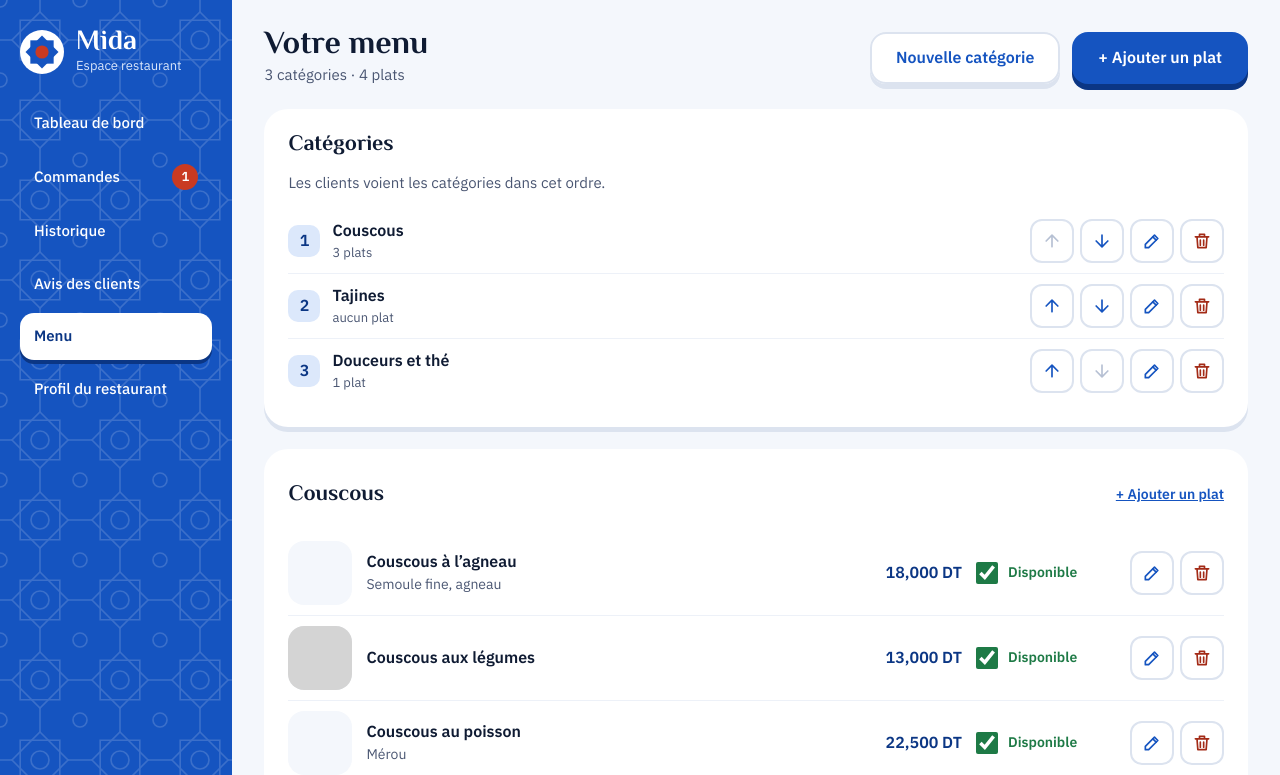
menu : catégories (US09) › nom vide ou déjà pris : message, rien n’est envoyé
The image size is (1280, 775).
Click the button "Nouvelle catégorie" at [965, 58], box [870,32,1060,84]
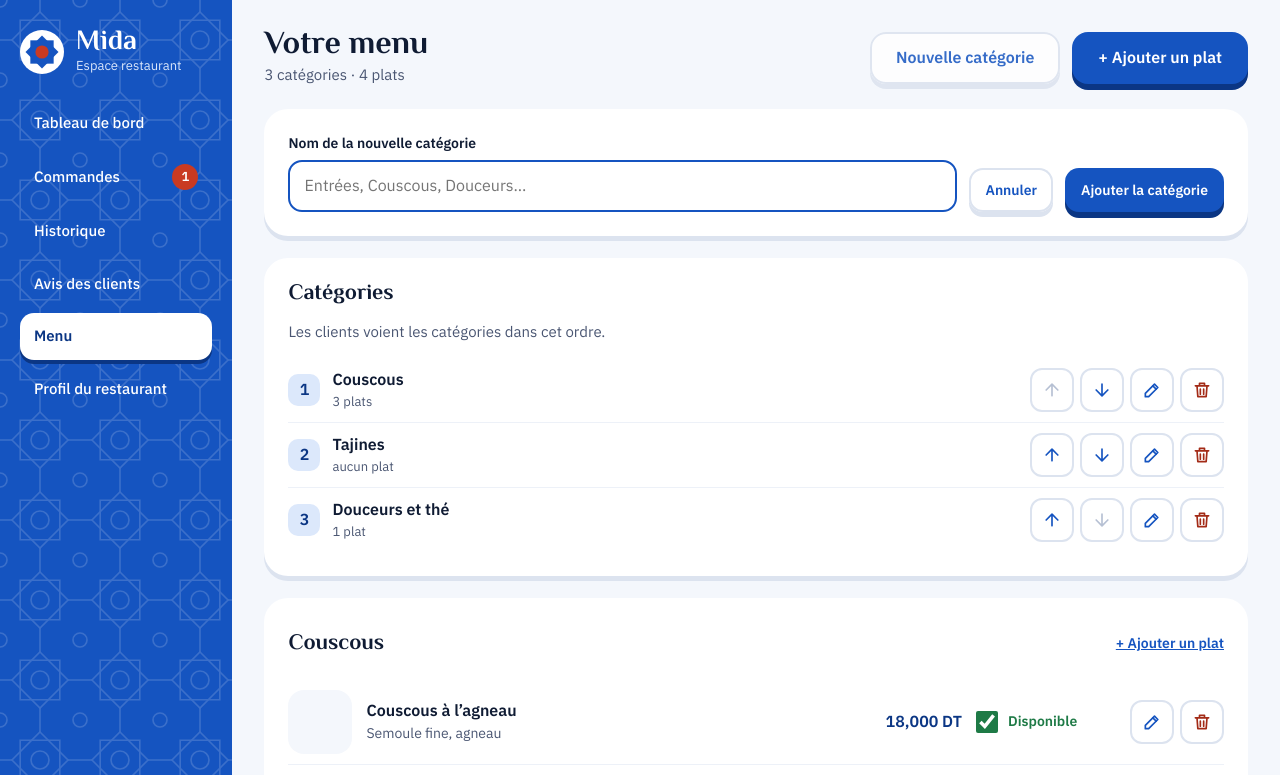
Click the button "Ajouter la catégorie" at [1144, 190], box [1065,168,1224,212]
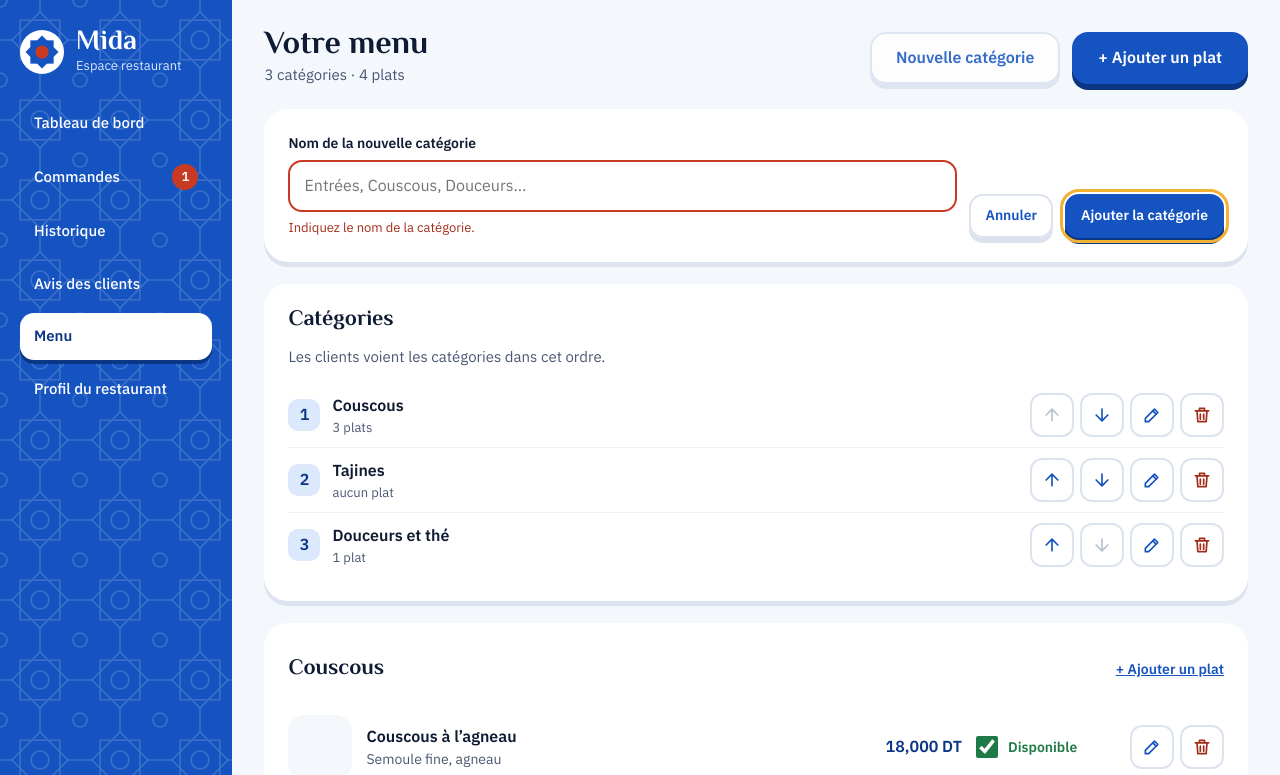
Result: the text "Indiquez le nom de la catégorie." is shown at [288,218,475,237]
Type "tajines" into the field labelled "Nom de la nouvelle catégorie" at [623, 186], box [288,160,958,212]
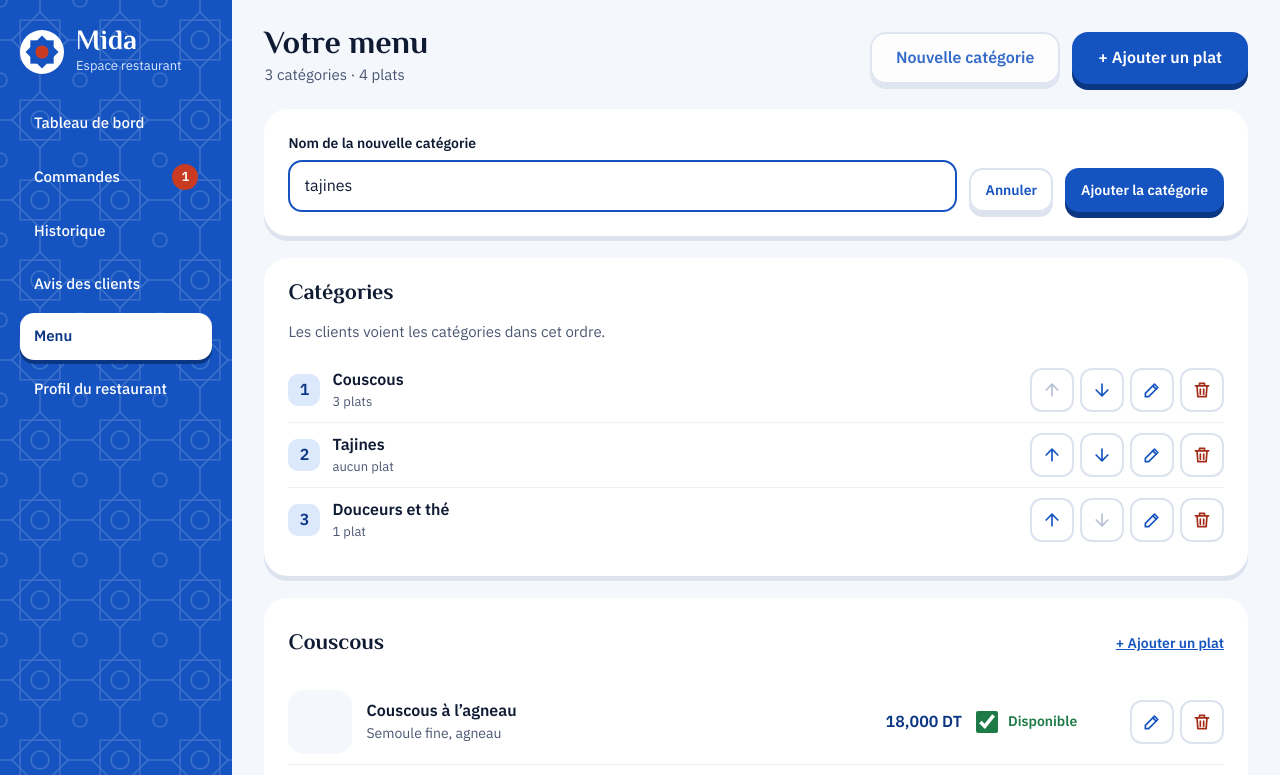
Click the button "Ajouter la catégorie" at [1144, 190], box [1065,168,1224,212]
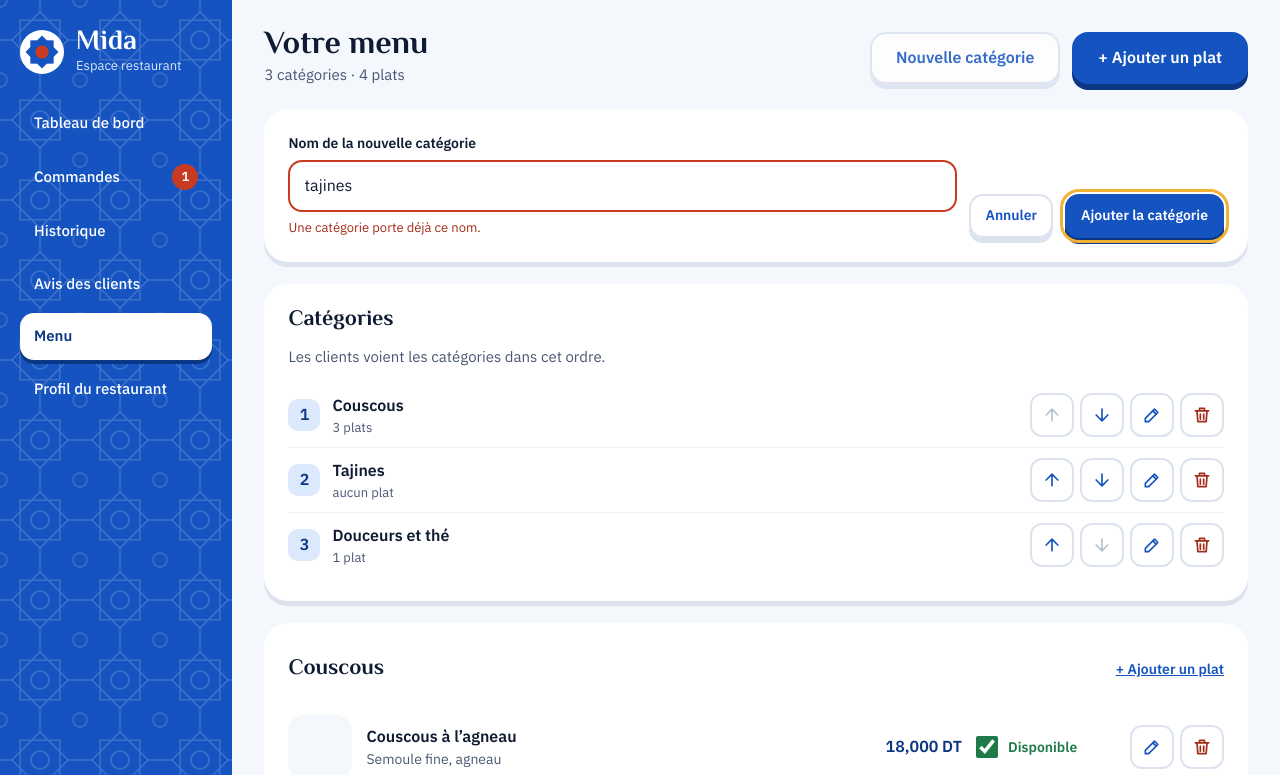
Result: the text "Une catégorie porte déjà ce nom." is shown at [288,218,481,237]
